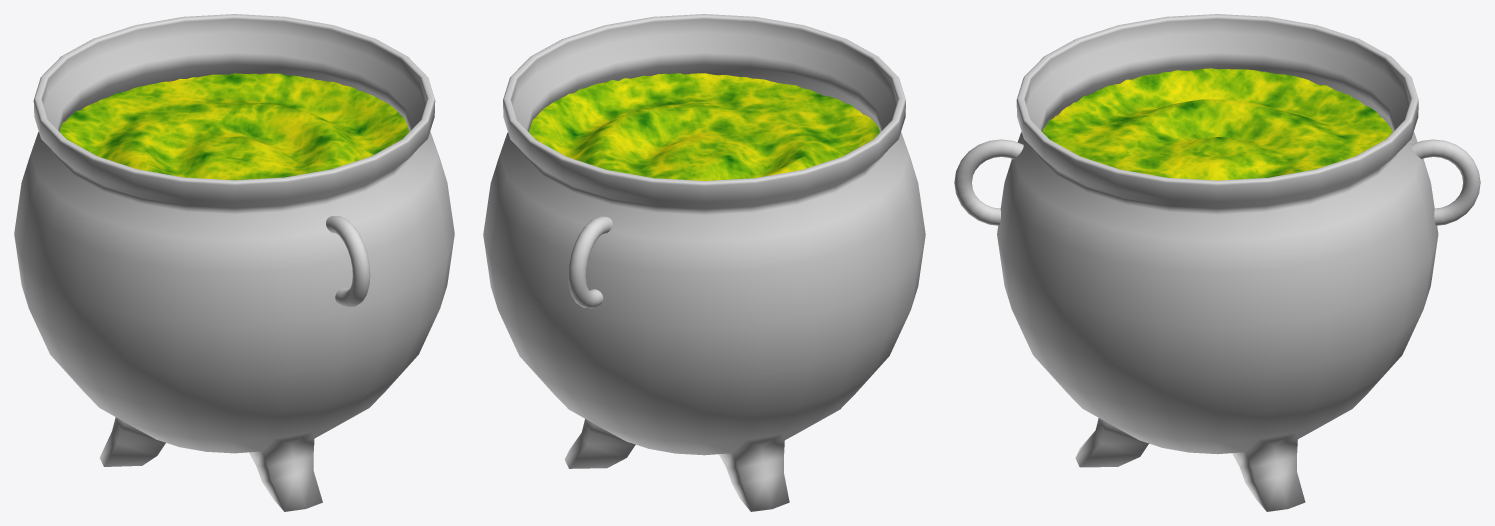
Rendered from CauldronAnim.FBX.
3 renders of one model, left to right at view 1: azimuth 30°, elevation 25°; view 2: azimuth 150°, elevation 25°; view 3: azimuth 270°, elevation 25°, orthographic.
Visible parts, largest first — view 1: Sphere001, Liquid, Cylinder003; view 2: Sphere001, Liquid, Cylinder002; view 3: Sphere001, Liquid, Cylinder003, Cylinder002.
Boxes of the visible parts, <box> form: Sphere001: <box>14,14,454,511</box>; Liquid: <box>59,73,409,180</box>; Cylinder003: <box>326,216,370,306</box>; Sphere001: <box>483,14,925,511</box>; Liquid: <box>529,73,879,180</box>; Cylinder002: <box>568,216,612,308</box>; Sphere001: <box>997,14,1438,511</box>; Liquid: <box>1042,68,1392,180</box>; Cylinder003: <box>954,139,1023,225</box>; Cylinder002: <box>1411,139,1480,225</box>.
Bounding box in the file's own units: 1.35 × 1.23 × 1.62.
Materials: 1 (1 with a texture image).
